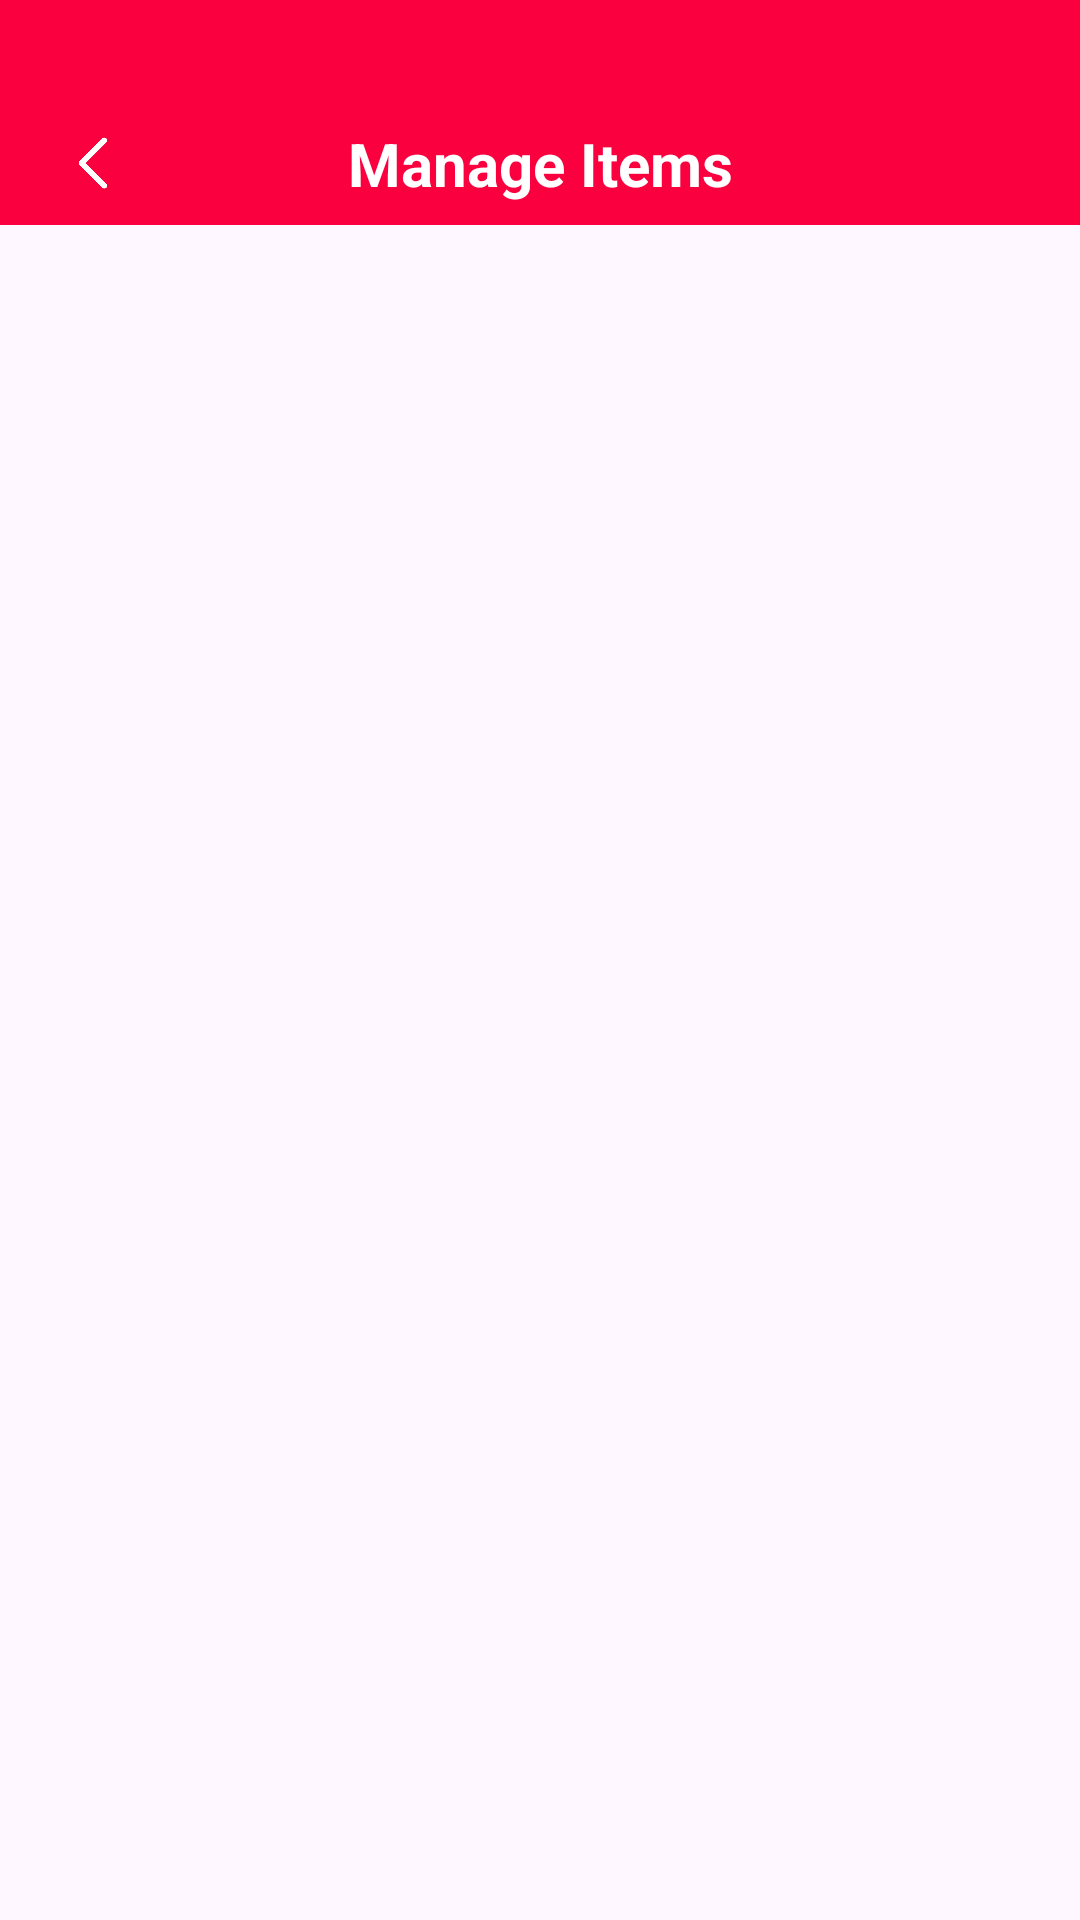

Icons on this 1080w x 1920h Android screen, each with its box as (x1, y1, x2, y2):
Back: (79, 137, 107, 189)
